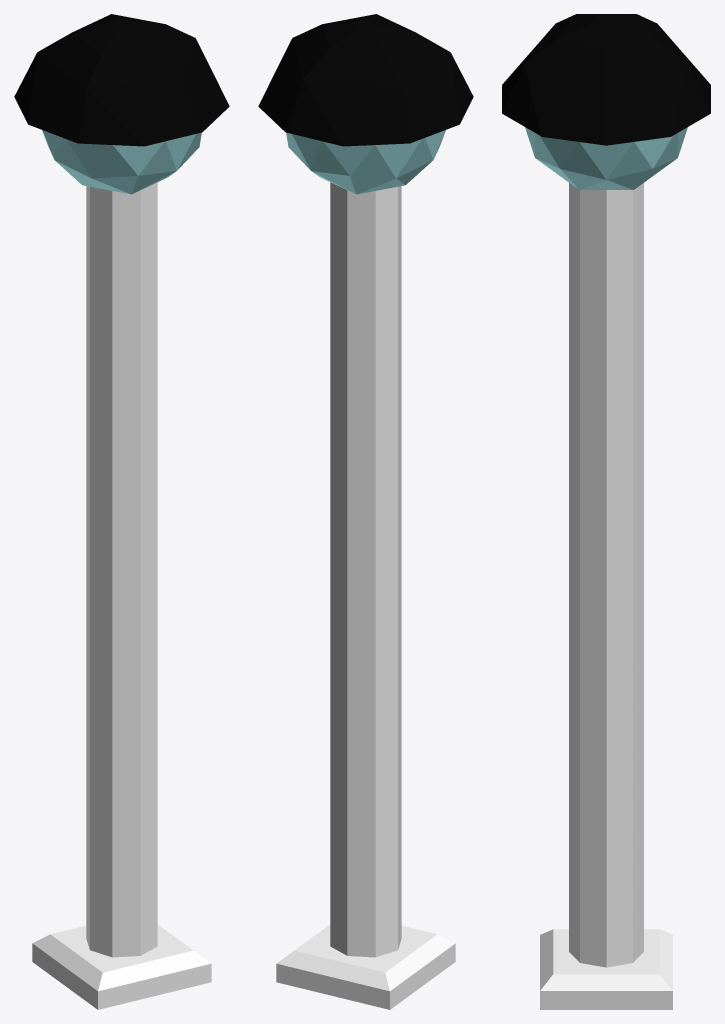
File: lightpole.fbx
3 views of the same model, side by side, from view 1: azimuth 30°, elevation 25°; view 2: azimuth 150°, elevation 25°; view 3: azimuth 270°, elevation 25° (orthographic).
Visible parts, largest first — view 1: Cube, Icosphere; view 2: Cube, Icosphere; view 3: Cube, Icosphere.
Part boxes in pixels (<box>): Cube: <box>32,182,211,1009</box>; Icosphere: <box>14,14,229,194</box>; Cube: <box>276,182,455,1009</box>; Icosphere: <box>258,14,473,194</box>; Cube: <box>540,183,672,1009</box>; Icosphere: <box>502,14,710,189</box>.
Bounding box in the file's own units: 66.09 × 319 × 62.85.
